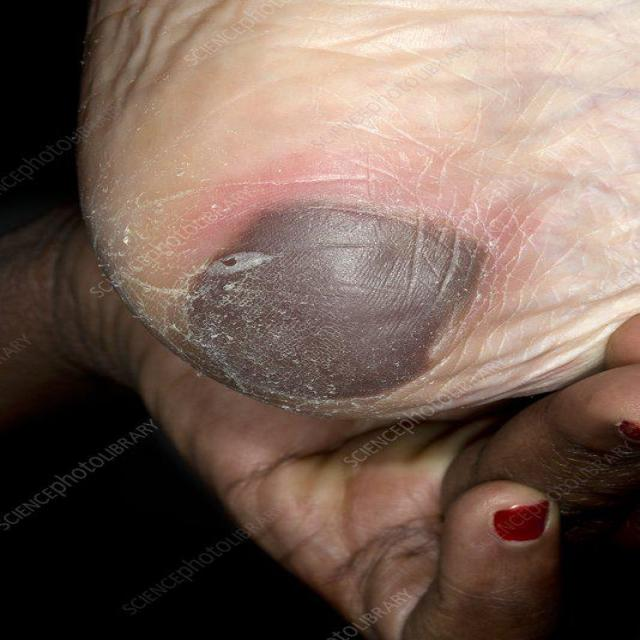DTI: (187, 208, 478, 404)
